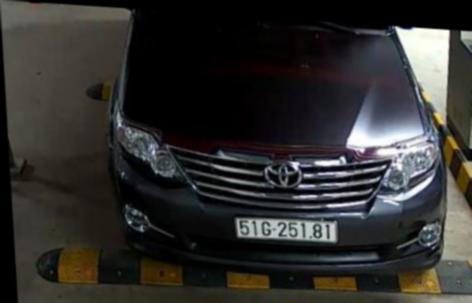License_Plate: (229, 209, 339, 249)
